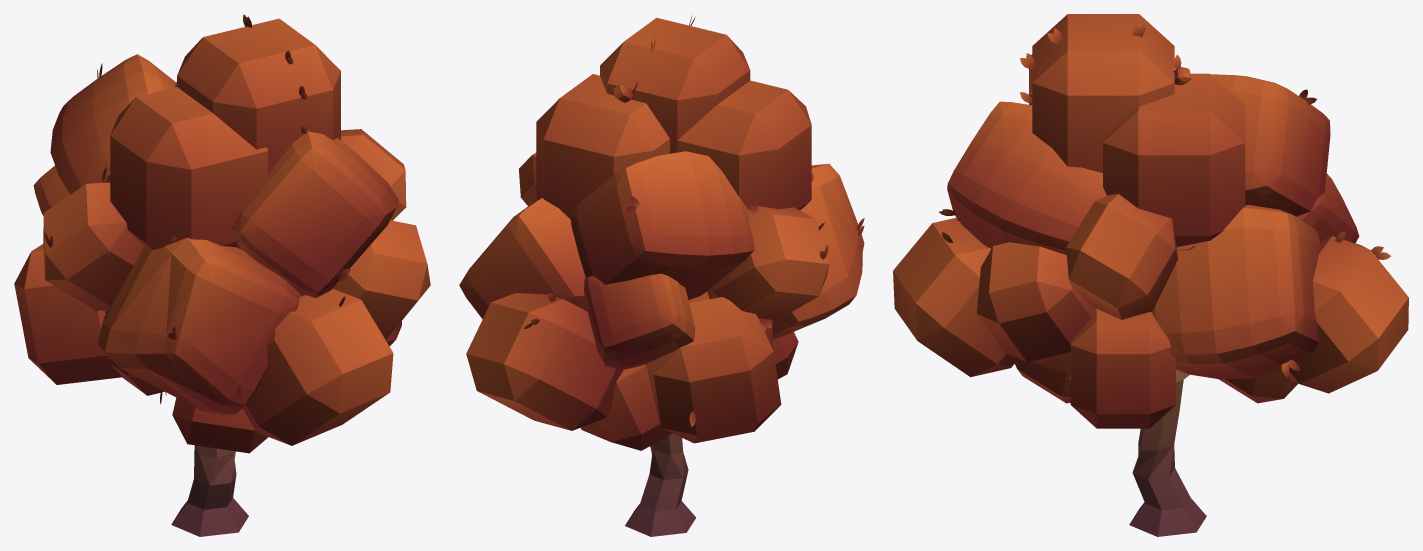
Rendered from albero2.glb.
The picture shows the model from 3 angles, left to right: view 1: azimuth 30°, elevation 25°; view 2: azimuth 150°, elevation 25°; view 3: azimuth 270°, elevation 25°; orthographic projection. The views are drawn at different scales.
Size of the model in its own units: 216 by 303 by 279.
1 material, 1 textured.
